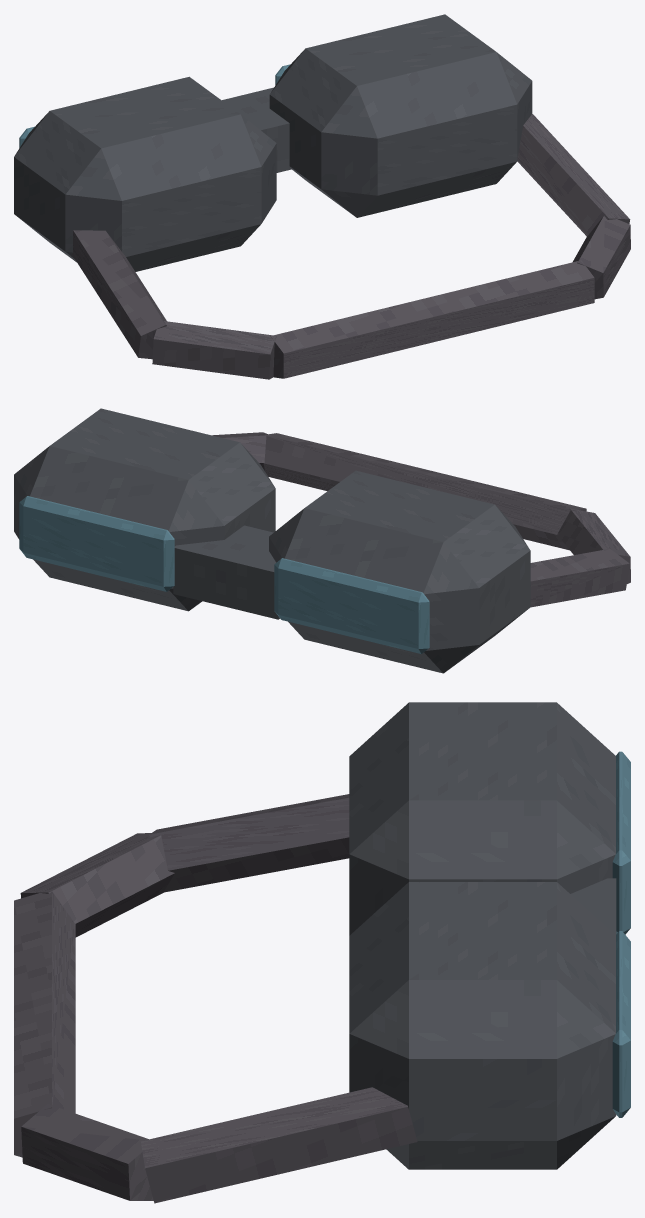
File: goggles_ski.glb
3 renders of one model, top to bottom at view 1: azimuth 30°, elevation 25°; view 2: azimuth 150°, elevation 25°; view 3: azimuth 270°, elevation 25°, orthographic. The views are drawn at different scales.
Parts seen in each view (by area): view 1: block_eyepiece (×2), block_elastic back strap 2, block_elastic back strap 0, block_elastic back strap 1, block_elastic back strap 4, block_elastic back strap 3, block_bridge; view 2: block_eyepiece (×2), block_lens (×2), block_elastic back strap 2, block_bridge, block_elastic back strap 0, block_elastic back strap 1, block_elastic back strap 3; view 3: block_eyepiece (×2), block_elastic back strap 4, block_elastic back strap 2, block_elastic back strap 0, block_elastic back strap 3, block_elastic back strap 1, block_lens (×2), block_bridge.
Boxes of the visible parts, box(x1,y1,x2,y2) form: block_eyepiece (×2): box(14, 14, 532, 271); block_elastic back strap 2: box(270, 260, 594, 378); block_elastic back strap 0: box(72, 230, 166, 359); block_elastic back strap 1: box(152, 321, 276, 379); block_elastic back strap 4: box(517, 114, 630, 236); block_elastic back strap 3: box(573, 216, 630, 299); block_bridge: box(222, 87, 292, 172); block_eyepiece (×2): box(14, 408, 530, 673); block_lens (×2): box(19, 496, 429, 653); block_elastic back strap 2: box(263, 433, 586, 550); block_bridge: box(173, 525, 279, 619); block_elastic back strap 0: box(530, 548, 629, 607); block_elastic back strap 1: box(557, 508, 630, 583); block_elastic back strap 3: box(212, 432, 270, 470); block_eyepiece (×2): box(349, 702, 616, 1169); block_elastic back strap 4: box(141, 1087, 417, 1203); block_elastic back strap 2: box(14, 889, 75, 1157); block_elastic back strap 0: box(149, 794, 349, 892); block_elastic back strap 3: box(21, 1104, 153, 1200); block_elastic back strap 1: box(20, 833, 174, 937); block_lens (×2): box(612, 751, 630, 1117); block_bridge: box(570, 878, 616, 934).
Size of the model in its own units: 0.1437 by 0.0421 by 0.11.
Materials: 1 (1 with a texture image).
